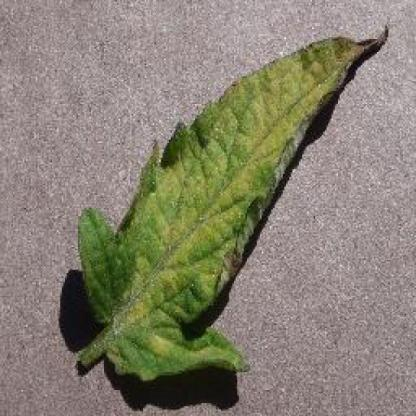Tomato_Leaf_Mold: (87, 25, 386, 374)
